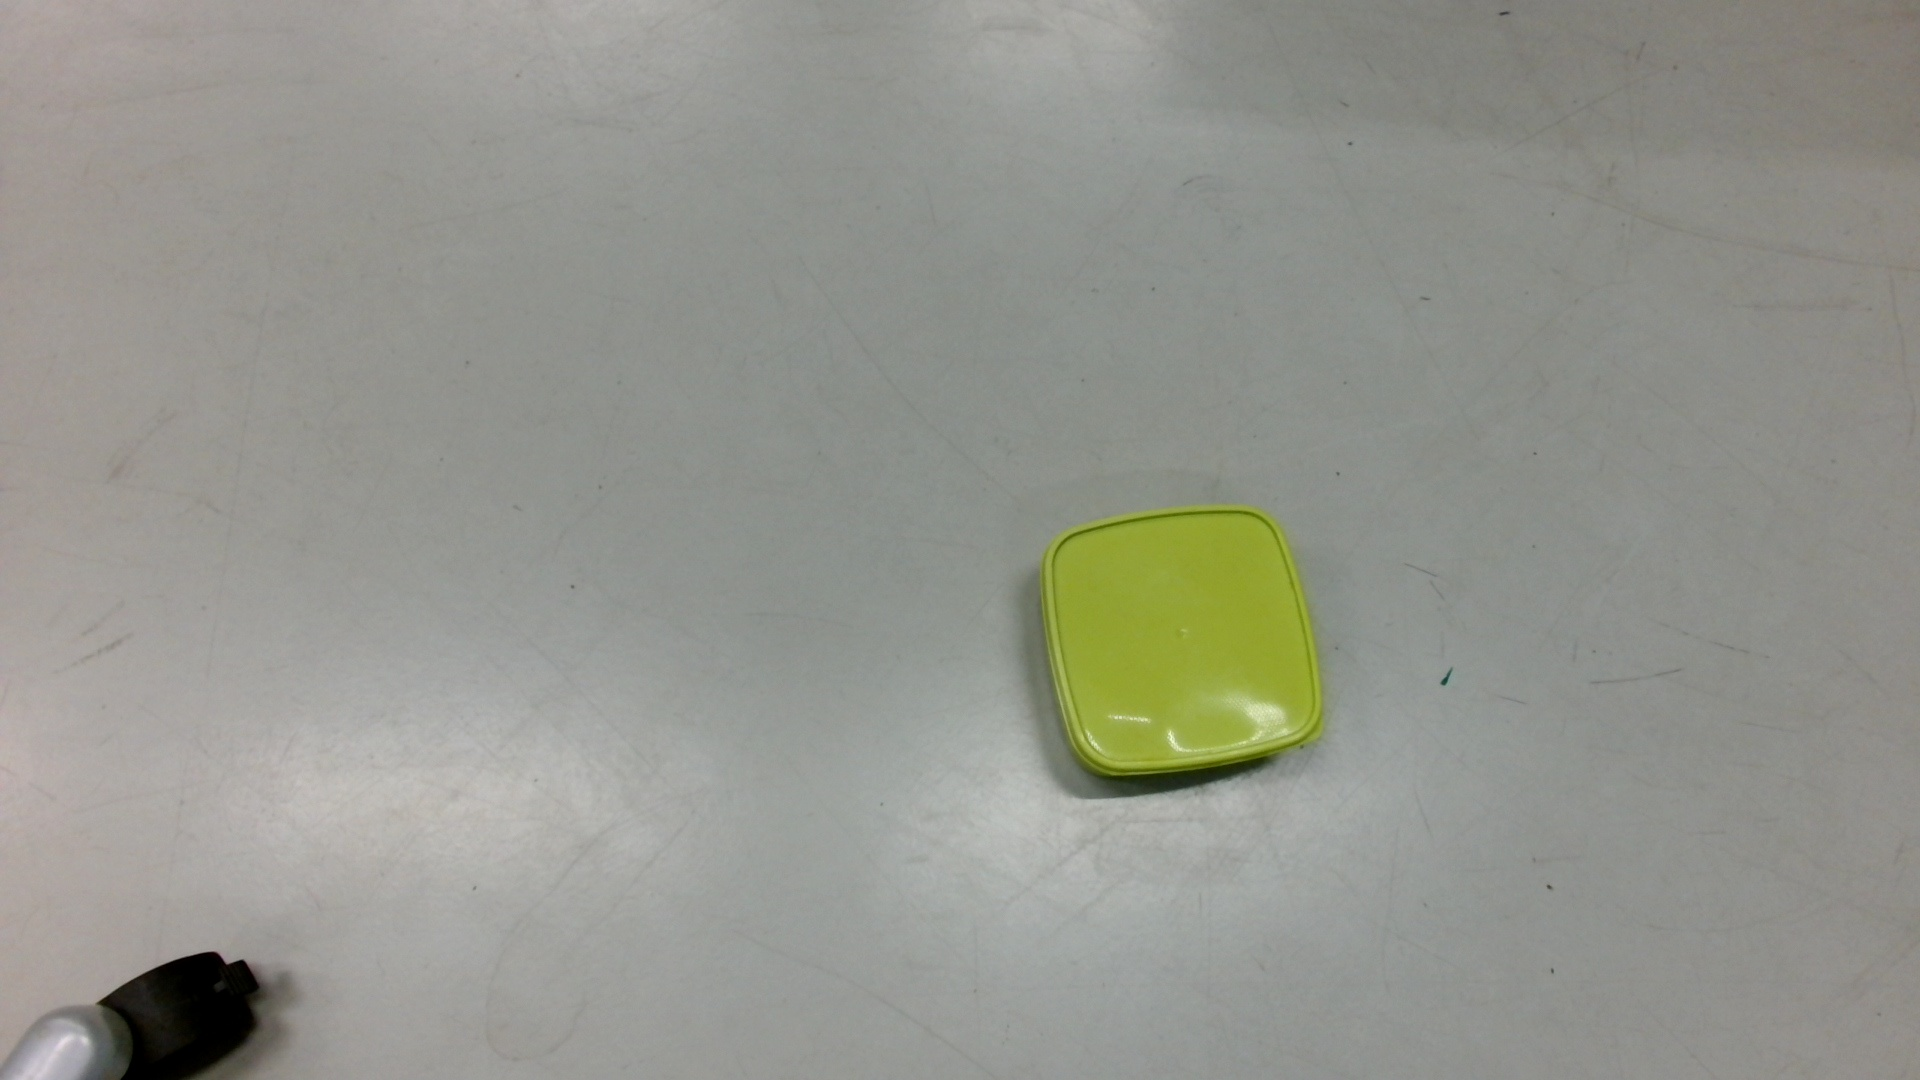Box: (1033, 497, 1333, 789)
